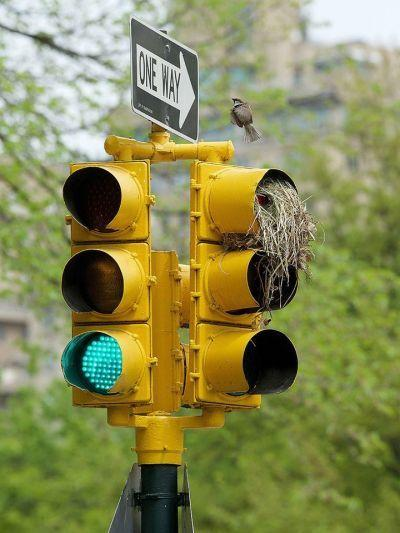Traffic light green: (51, 163, 160, 394)
